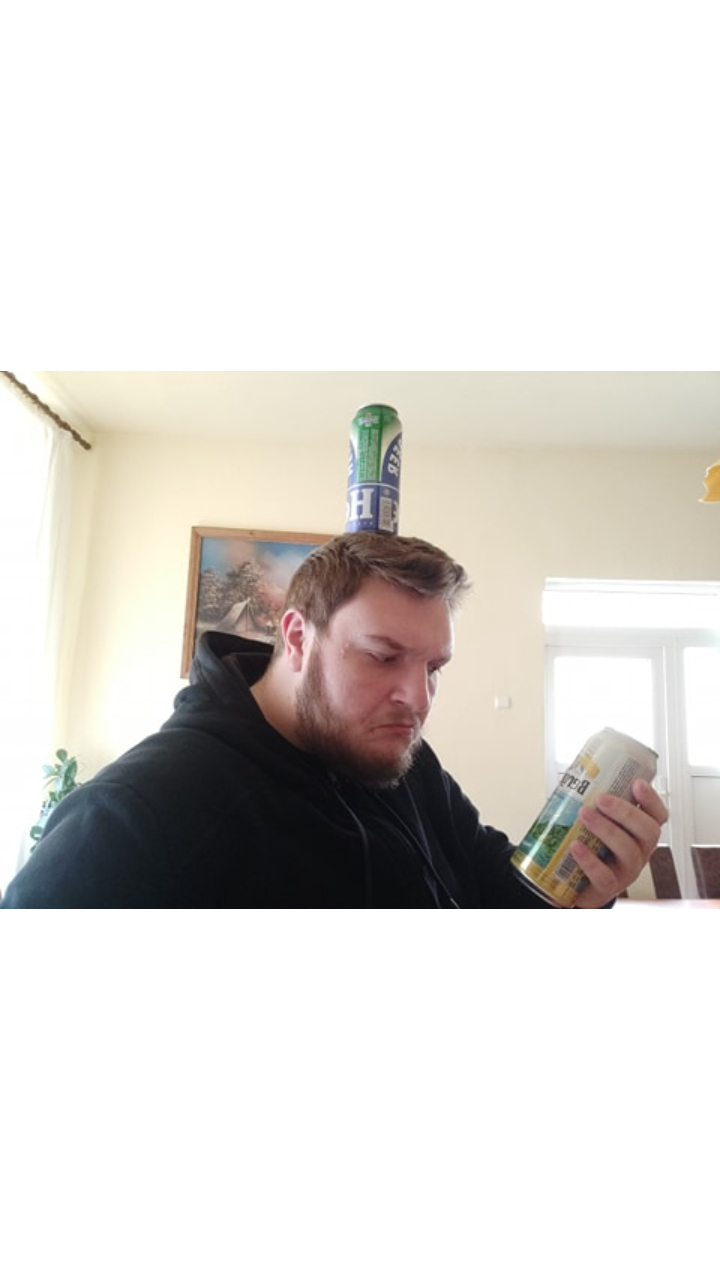Can: (505, 725, 664, 903), (347, 403, 404, 532)
